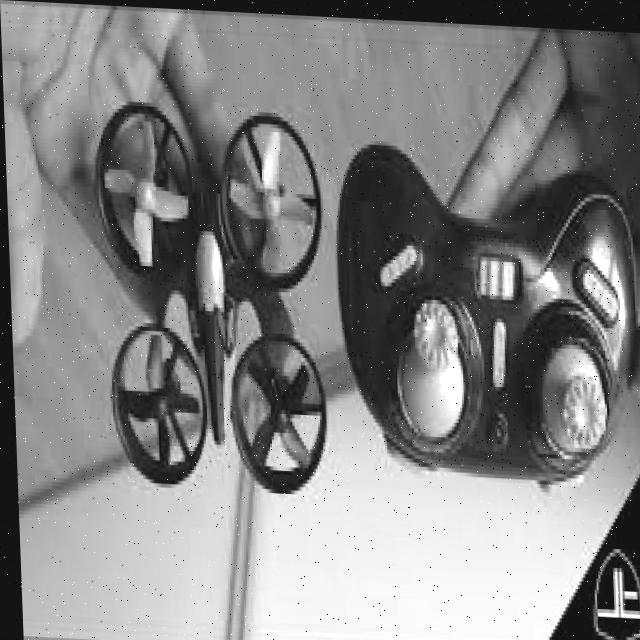drone: (93, 80, 340, 525)
